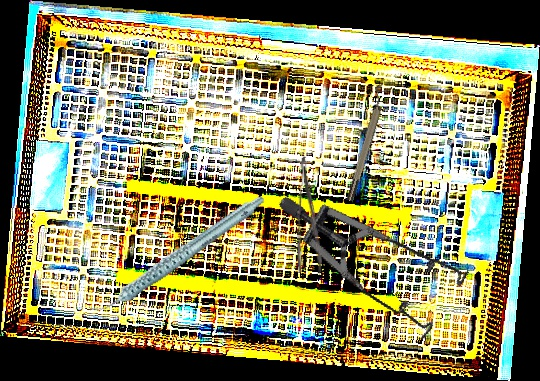Dressing Forceps: (295, 156, 326, 274)
Fixation Ring: (339, 82, 393, 203)
Handpiece: (72, 192, 282, 317)
Speculum: (274, 137, 489, 372)
